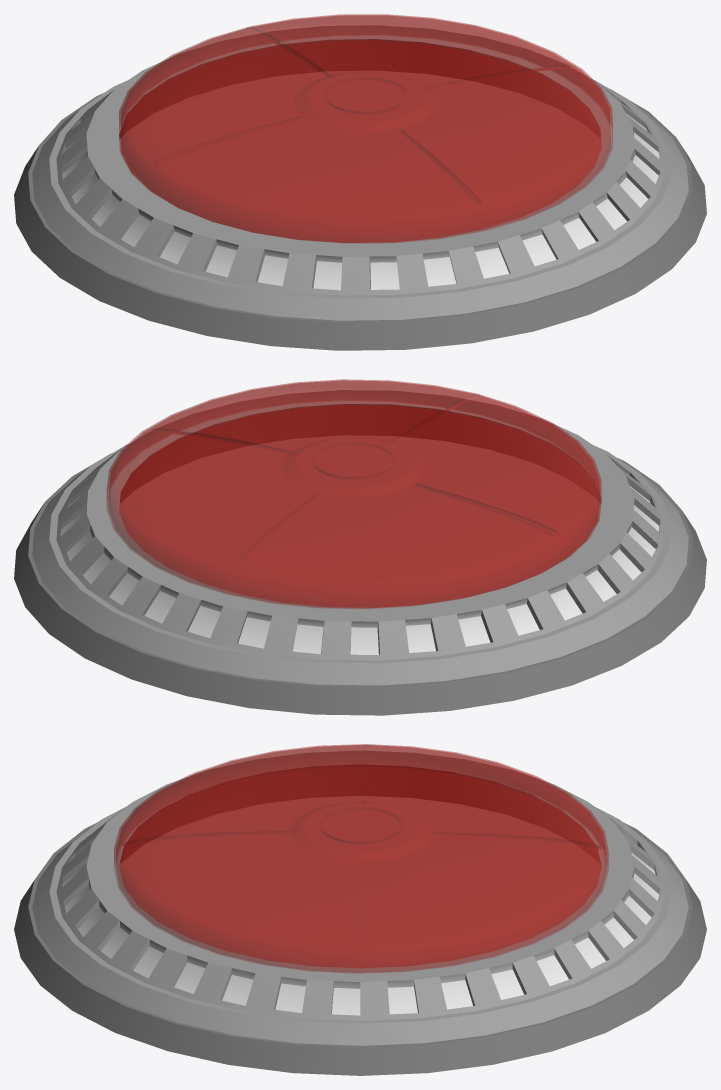
The model's file is BotonPortal 1.fbx.
The picture shows the model from 3 angles, top to bottom: view 1: azimuth 30°, elevation 25°; view 2: azimuth 150°, elevation 25°; view 3: azimuth 270°, elevation 25°; orthographic projection.
Visible parts, largest first — view 1: Cylinder.001, Cylinder.002, Cylinder; view 2: Cylinder.001, Cylinder.002, Cylinder; view 3: Cylinder.001, Cylinder.002, Cylinder.
Boxes of the visible parts, x1,y1,x2,y2 form: Cylinder.001: (32, 25, 688, 320); Cylinder.002: (119, 14, 612, 243); Cylinder: (14, 89, 706, 350); Cylinder.001: (32, 390, 688, 685); Cylinder.002: (107, 379, 601, 608); Cylinder: (14, 453, 706, 715); Cylinder.001: (32, 751, 688, 1045); Cylinder.002: (114, 744, 608, 973); Cylinder: (14, 822, 706, 1075).
Bounding box in the file's own units: 211 × 36.21 × 211.
